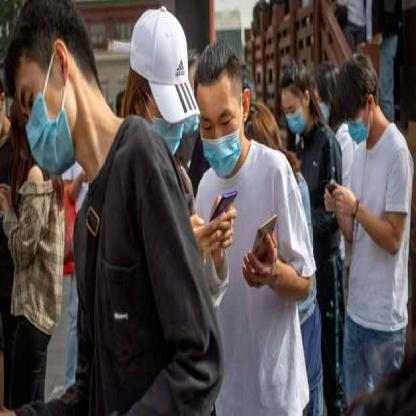Wearing_Mask: (16, 44, 78, 181), (199, 75, 256, 184), (342, 79, 384, 150), (276, 75, 312, 149)
